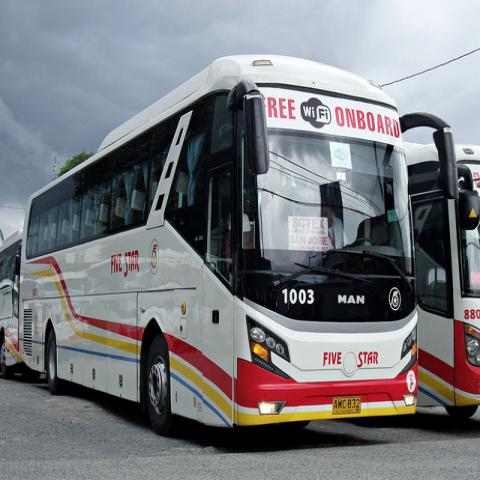bus: (17, 47, 457, 442), (406, 138, 480, 415), (0, 224, 22, 377)
